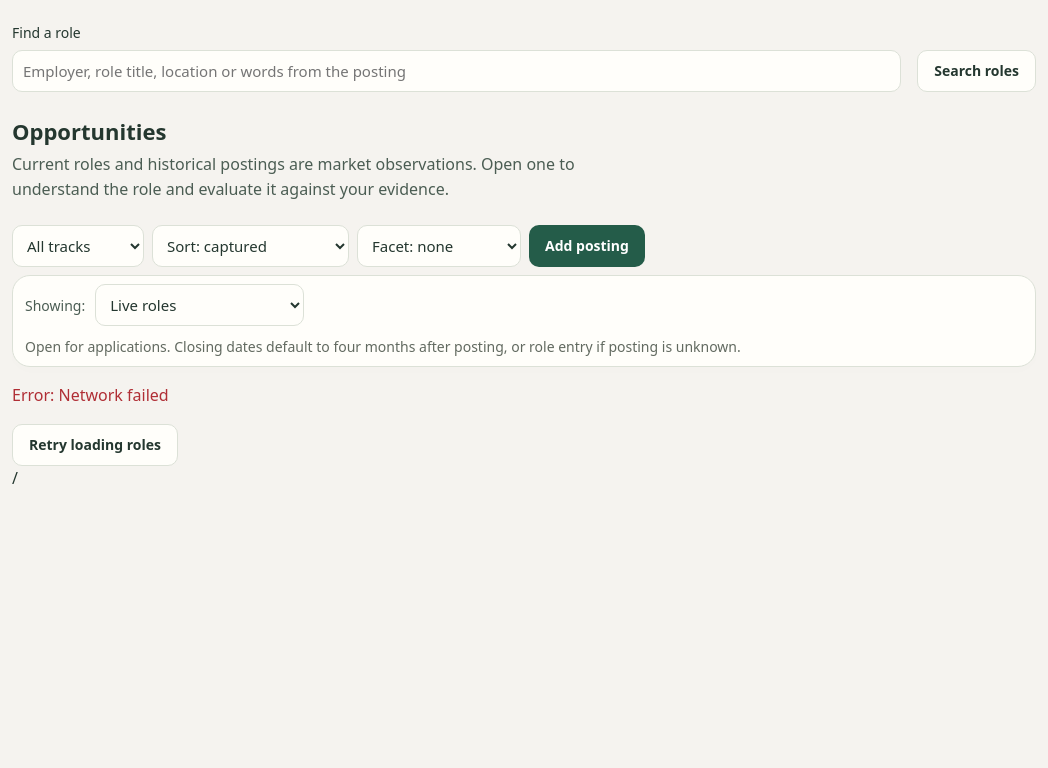
Dashboard recovery and navigation › distinguishes no matches and clears errors on successful retry
Expected: the text "Error: Network failed" is shown, [12,384,169,406]
Step 1. Click the button "Retry loading roles" → point(95, 445), box [12,424,178,466]
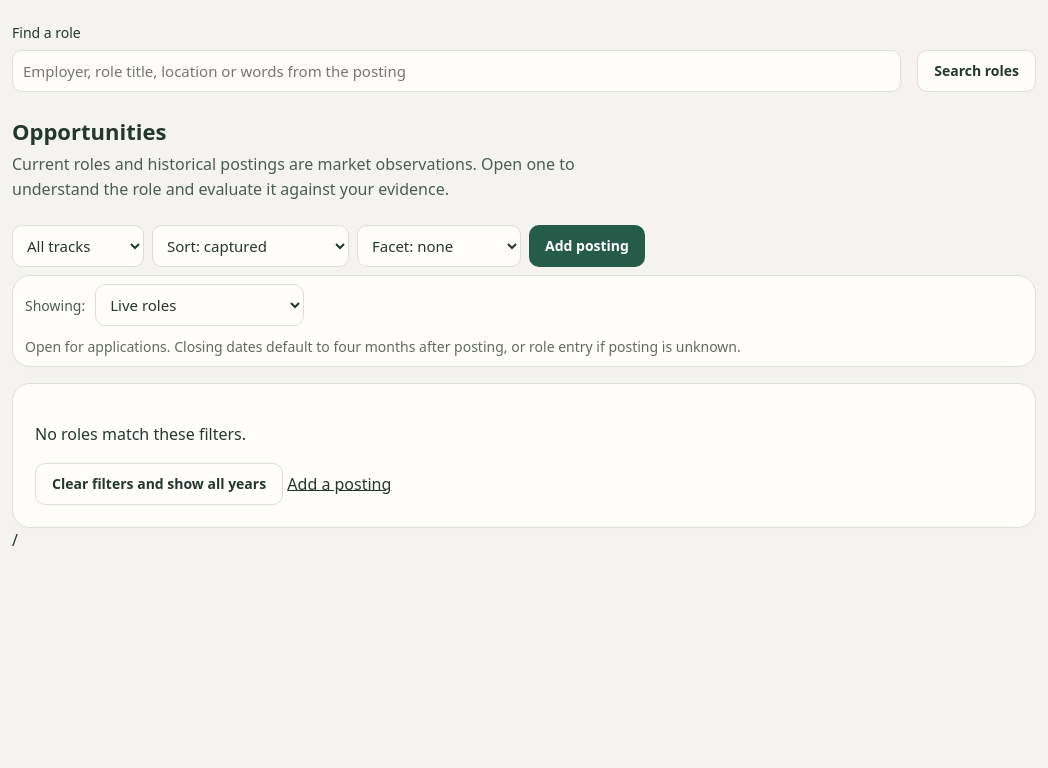
Expected: the text "No roles match these filters." is shown, [35,423,246,445]
Expected: the message "Error: Network failed Retry loading roles" is gone
Step 2. Click the button "Clear filters and show all years" → point(159, 484), box [35,463,283,505]
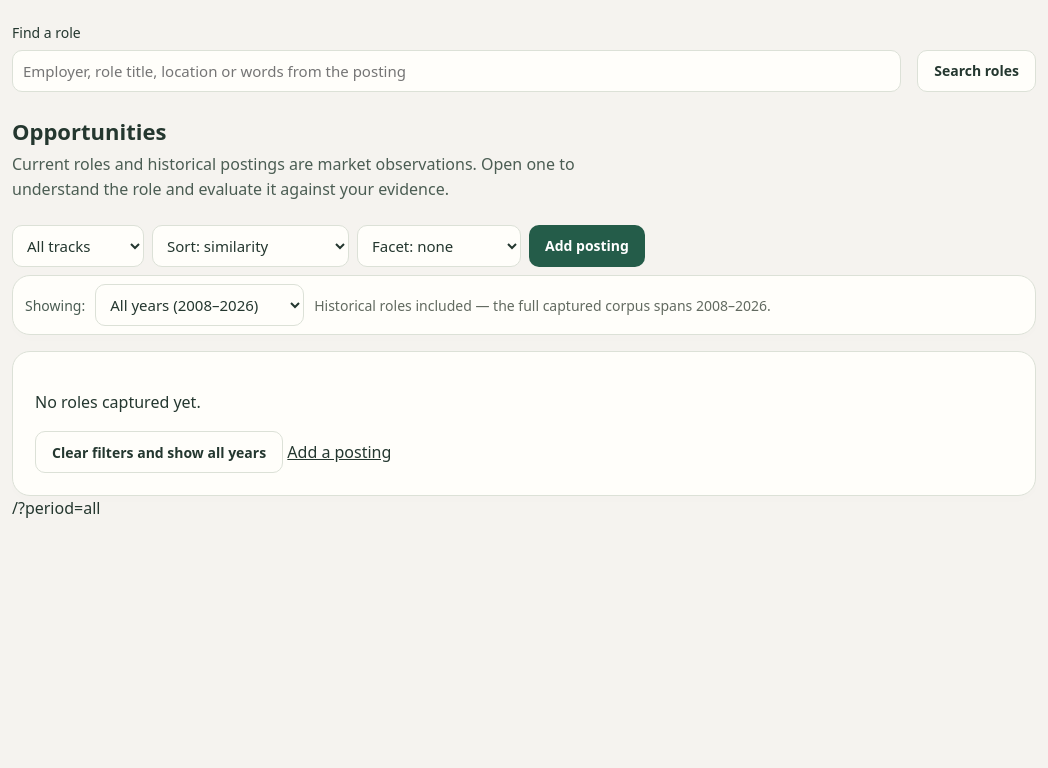
Expected: the text "No roles captured yet." is shown, [35,391,201,413]
